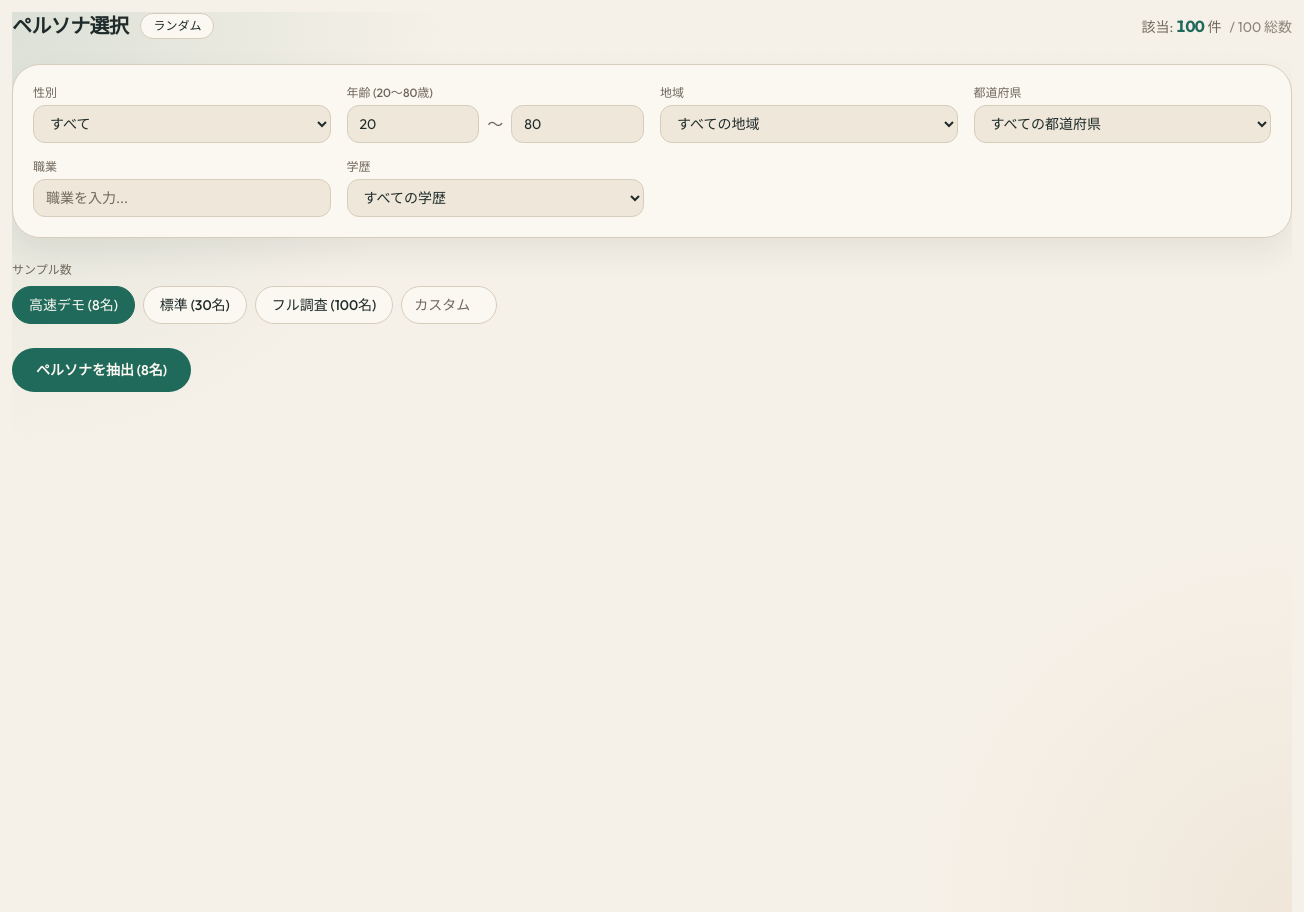
Test: FilterPanel › clicking ランダム randomizes filters and requests a filtered count
This screenshot has width=1304, height=912.
Expected: the text "100" is shown, [1176, 16, 1204, 36]
Click the button "ランダム". click: {"x": 177, "y": 26}
box: [140, 13, 214, 39]
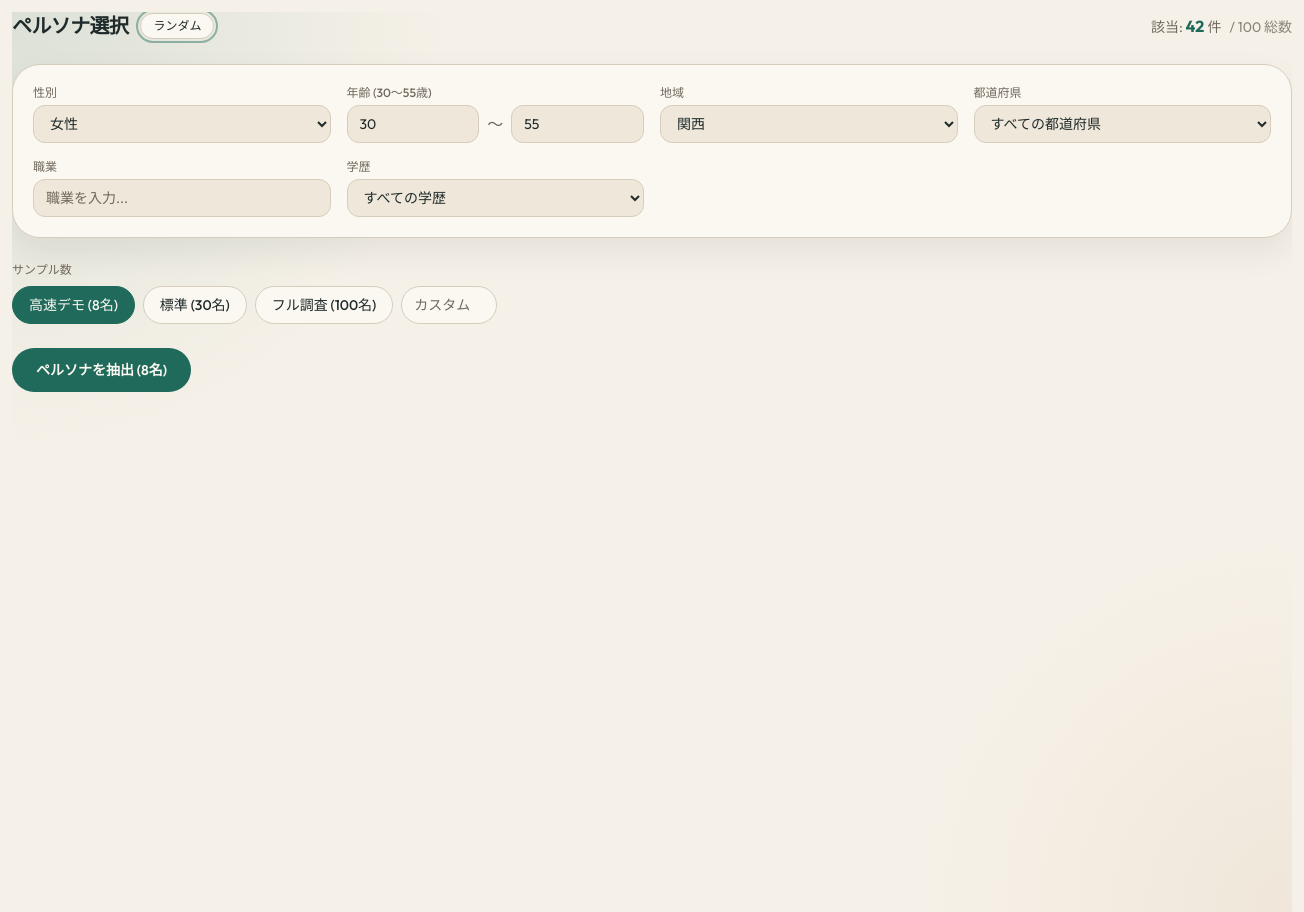
Expected: the 1st number field does not hold "20", [346, 105, 479, 143]
Expected: the 2nd number field does not hold "80", [511, 105, 644, 143]
Expected: the text "42" is shown, [1186, 16, 1205, 36]
